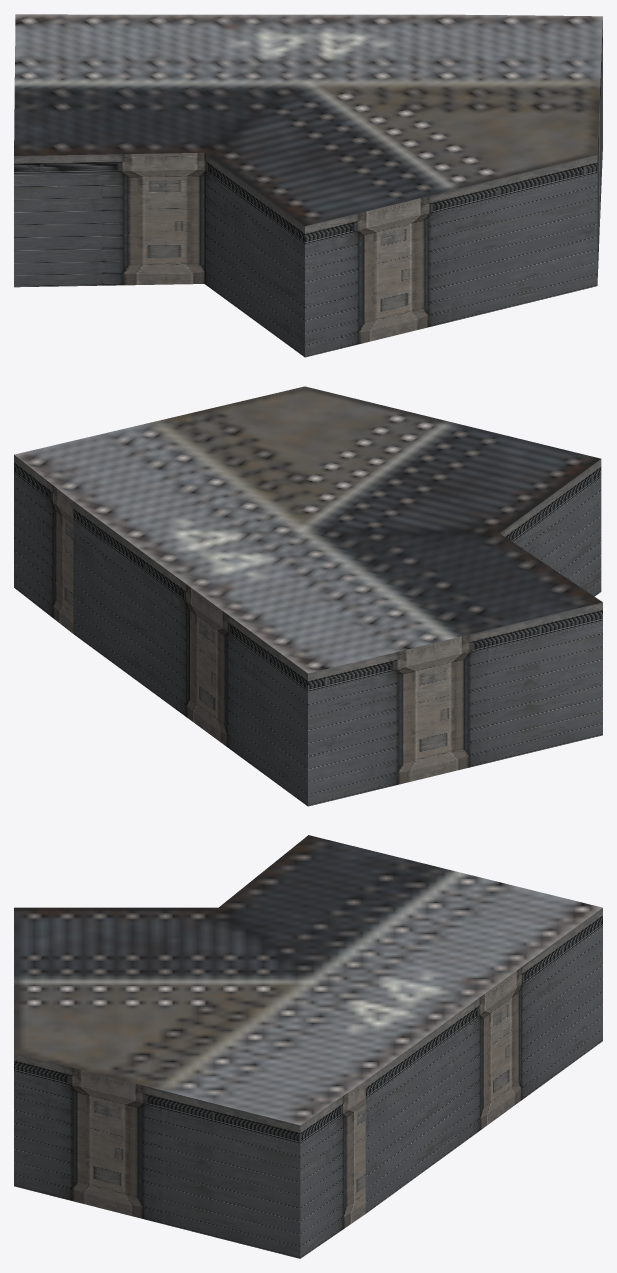
Rendered from hangar_heavy_44.glb.
3 renders of one model, top to bottom at view 1: azimuth 30°, elevation 25°; view 2: azimuth 150°, elevation 25°; view 3: azimuth 270°, elevation 25°, orthographic.
Parts seen in each view (by area): view 1: buildings/saxarba/hangar_heavy/hangar_heavy_44; view 2: buildings/saxarba/hangar_heavy/hangar_heavy_44; view 3: buildings/saxarba/hangar_heavy/hangar_heavy_44.
Boxes of the visible parts, x1=… form: buildings/saxarba/hangar_heavy/hangar_heavy_44: x1=14, y1=14, x2=602, y2=357; buildings/saxarba/hangar_heavy/hangar_heavy_44: x1=14, y1=386, x2=602, y2=806; buildings/saxarba/hangar_heavy/hangar_heavy_44: x1=14, y1=835, x2=602, y2=1258.
Bounding box in the file's own units: 84 × 18 × 72.
